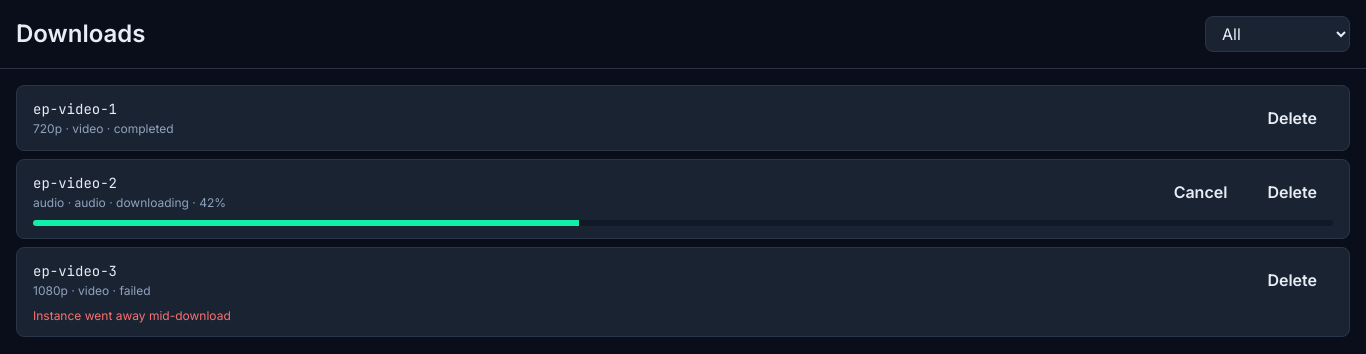
2c: previously-static screens now load real content › the Downloads filter selects by STATUS (the parameter the command takes)
Expected: the number of list items with test id "download-row" is 3, [16,85,1350,151]; [16,159,1350,239]; [16,247,1350,337]
Step 1. Select "Failed" in the dropdown named "Filter downloads" → (1278, 34), box [1205,16,1350,52]
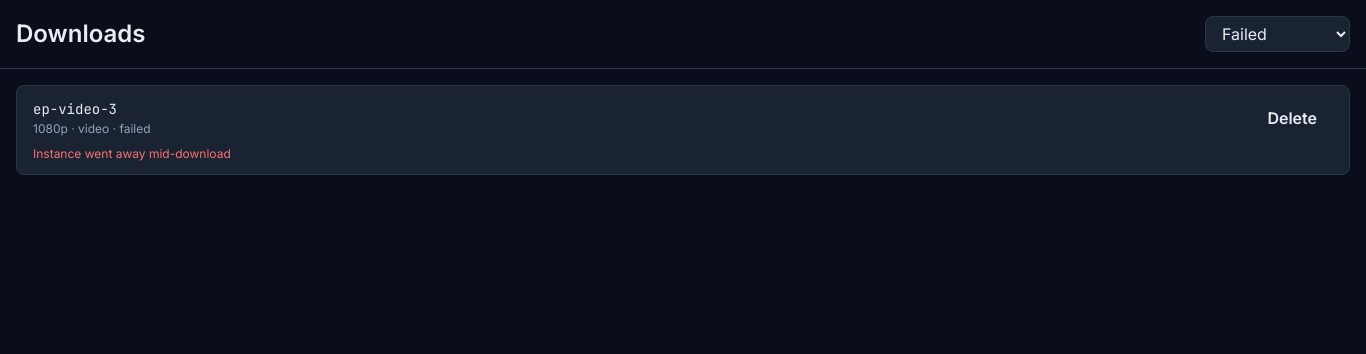
Expected: the text "ep-video-3" is shown, [33,100,117,118]
Now the number of list items with test id "download-row" is 1, box [16,85,1350,175]
